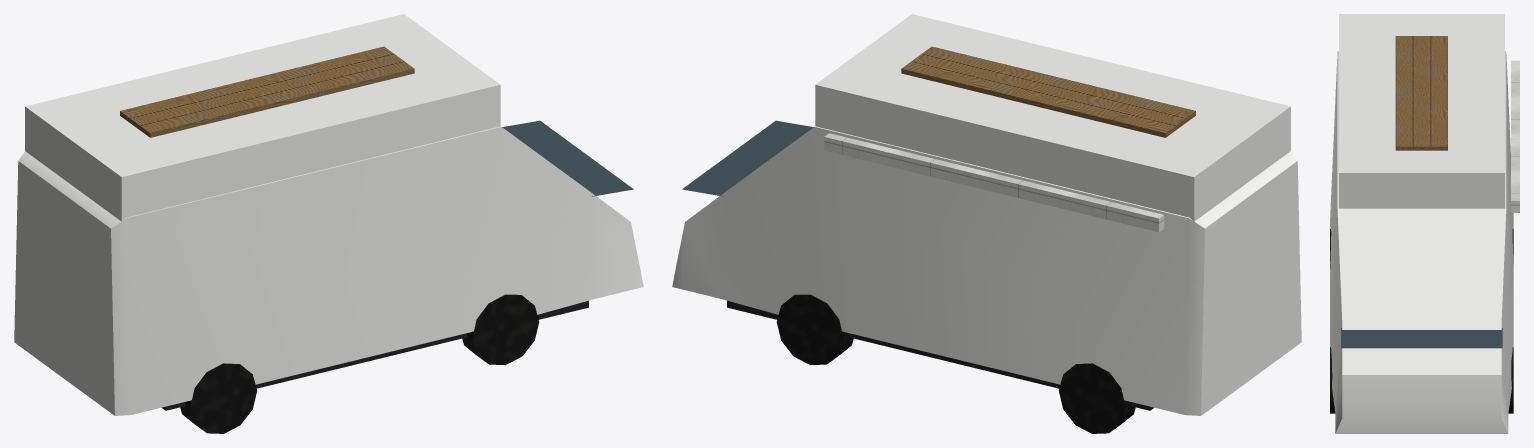
The model's file is camper_van.glb.
3 views of the same model, side by side, from view 1: azimuth 30°, elevation 25°; view 2: azimuth 150°, elevation 25°; view 3: azimuth 270°, elevation 25° (orthographic). The views are drawn at different scales.
Parts seen in each view (by area): view 1: camper_van; view 2: camper_van; view 3: camper_van.
Boxes of the visible parts, x1=… form: camper_van: x1=14, y1=14, x2=643, y2=433; camper_van: x1=672, y1=14, x2=1301, y2=433; camper_van: x1=1330, y1=14, x2=1519, y2=433.
Bounding box in the file's own units: 6 × 3.05 × 2.17.
Materials: 6 (4 with a texture image).
